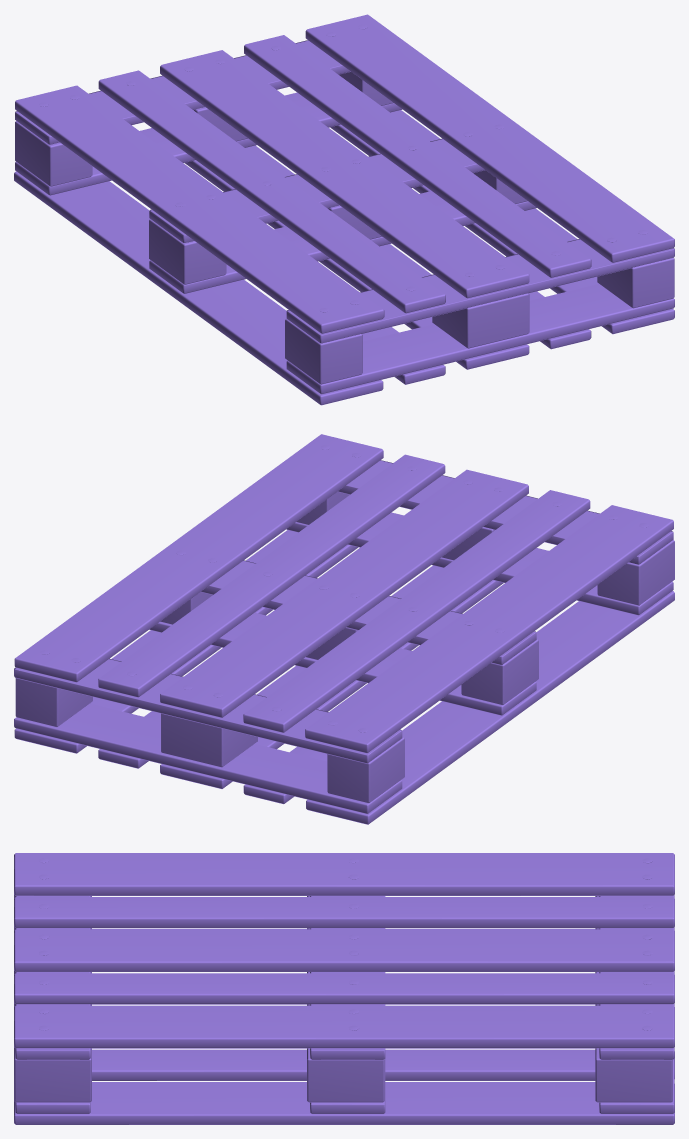
The model's file is palet.fbx.
3 renders of one model, top to bottom at view 1: azimuth 30°, elevation 25°; view 2: azimuth 150°, elevation 25°; view 3: azimuth 270°, elevation 25°, orthographic. The views are drawn at different scales.
Parts seen in each view (by area): view 1: Cylinder.002; view 2: Cylinder.002; view 3: Cylinder.002.
Boxes of the visible parts, x1,y1,x2,y2 form: Cylinder.002: (14, 14, 674, 405); Cylinder.002: (14, 434, 674, 824); Cylinder.002: (14, 853, 674, 1124).
Size of the model in its own units: 825 by 181 by 1233.
